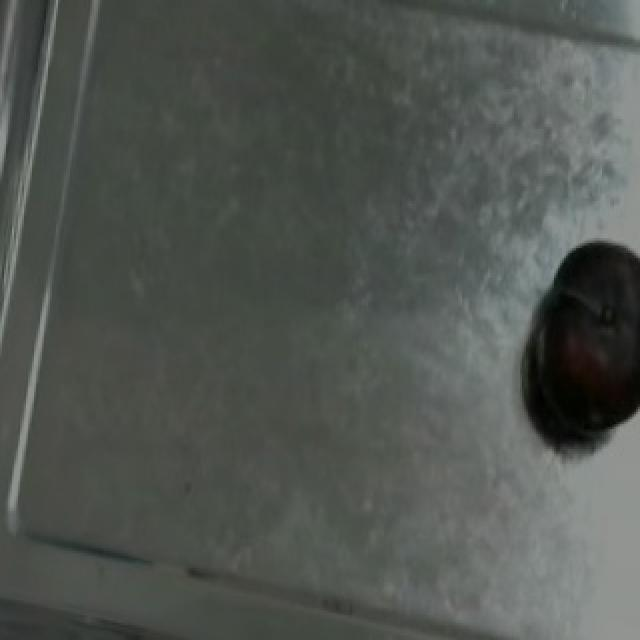Fruit: (514, 283, 640, 449)
